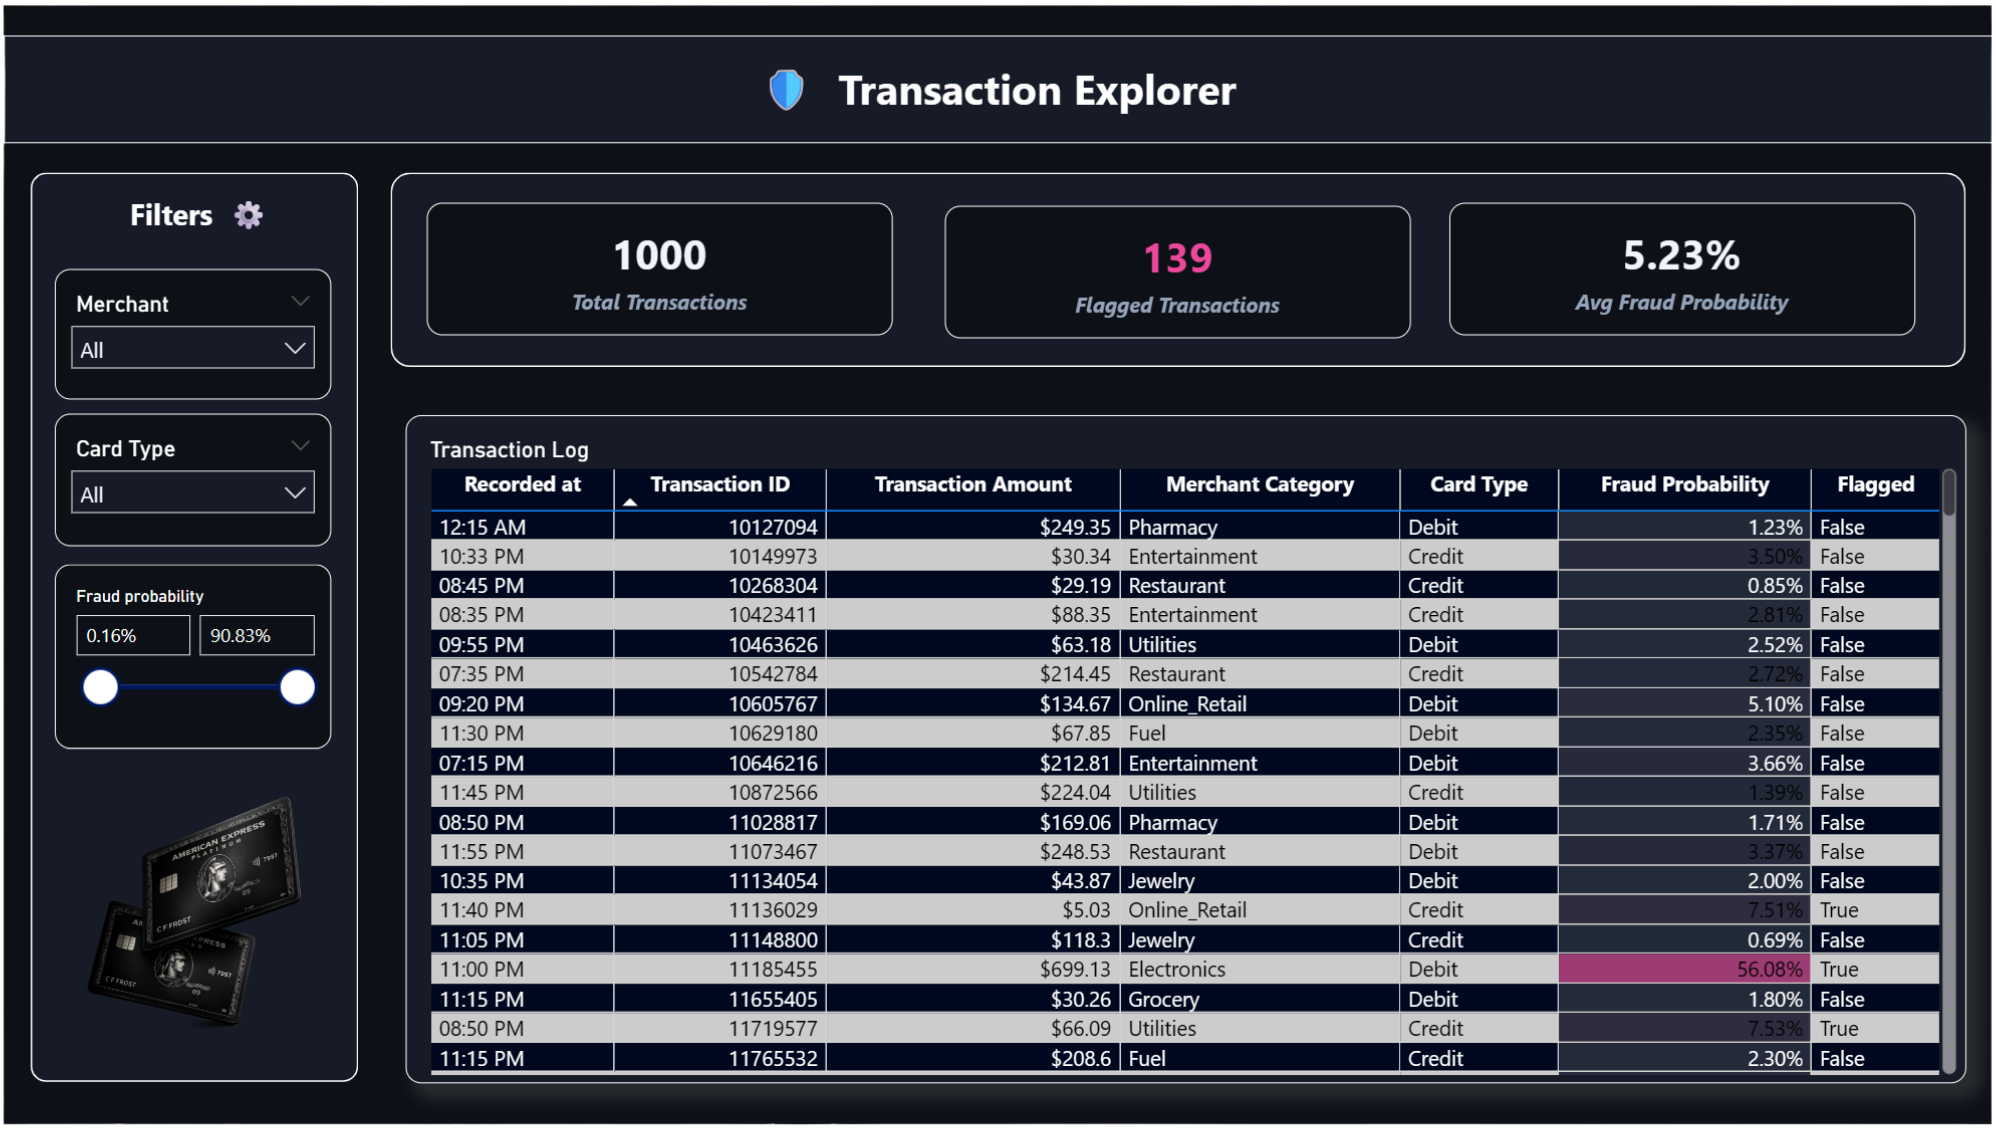

Layout of this report page (visuals, bound fields, positions):
{"tool":"powerbi","page":{"name":"Transaction Explore","canvas":[1280,720],"ordinal":1},"visuals":[{"type":"textbox","box":[0,19,1280.4,69.5],"z":0},{"type":"shape","box":[249.1,107.8,1013.9,125.1],"z":1000},{"type":"card","fields":{"Values":["transactions.Total Flagged"]},"box":[605.6,128.9,300,85.6],"z":3000},{"type":"card","fields":{"Values":["transactions.Total Transactions"]},"box":[272.2,126.7,300,85.6],"z":4000},{"type":"card","fields":{"Values":["transactions.Avg Fraud Probability"]},"box":[931.1,126.7,300,85.6],"z":6000},{"type":"shape","box":[17.4,107.8,210.9,585.2],"z":7000},{"type":"slicer","fields":{"Values":["transactions.merchant_category"]},"box":[33.3,169.4,177.8,84.2],"z":8000},{"type":"slicer","fields":{"Values":["transactions.card_type"]},"box":[33.3,263,177.8,85.2],"z":9000},{"type":"slicer","fields":{"Values":["transactions.fraud_probability"]},"box":[33.3,359.7,177.8,118.5],"z":10000},{"type":"tableEx","title":"Transaction Log","fields":{"Values":["transactions.recorded_at.Variation.Date Hierarchy.Year","transactions.transaction_id","transactions.transaction_amt","transactions.merchant_category","transactions.card_type","transactions.fraud_probability","transactions.is_flagged"]},"box":[258.9,263.3,1004.4,430],"z":11000},{"type":"textbox","box":[55.1,116.4,136.2,43.7],"z":15000},{"type":"image","box":[13.9,458.9,208.6,252.6],"z":16000}]}

Visuals, with their boxes in screenshot pixels (x1, y1, x2, y2), scaled from the page's 1280x720 canvas onto the 1996x1129 screenshot:
textbox: <region>0, 30, 1995, 139</region>
shape: <region>388, 169, 1969, 365</region>
card - transactions.Total Flagged: <region>944, 202, 1412, 336</region>
card - transactions.Total Transactions: <region>424, 199, 892, 333</region>
card - transactions.Avg Fraud Probability: <region>1452, 199, 1920, 333</region>
shape: <region>27, 169, 356, 1087</region>
slicer - transactions.merchant_category: <region>52, 266, 329, 398</region>
slicer - transactions.card_type: <region>52, 412, 329, 546</region>
slicer - transactions.fraud_probability: <region>52, 564, 329, 750</region>
"Transaction Log" tableEx: <region>404, 413, 1970, 1087</region>
textbox: <region>86, 183, 298, 251</region>
image: <region>22, 720, 347, 1116</region>
